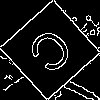C: (25, 25, 83, 84)
